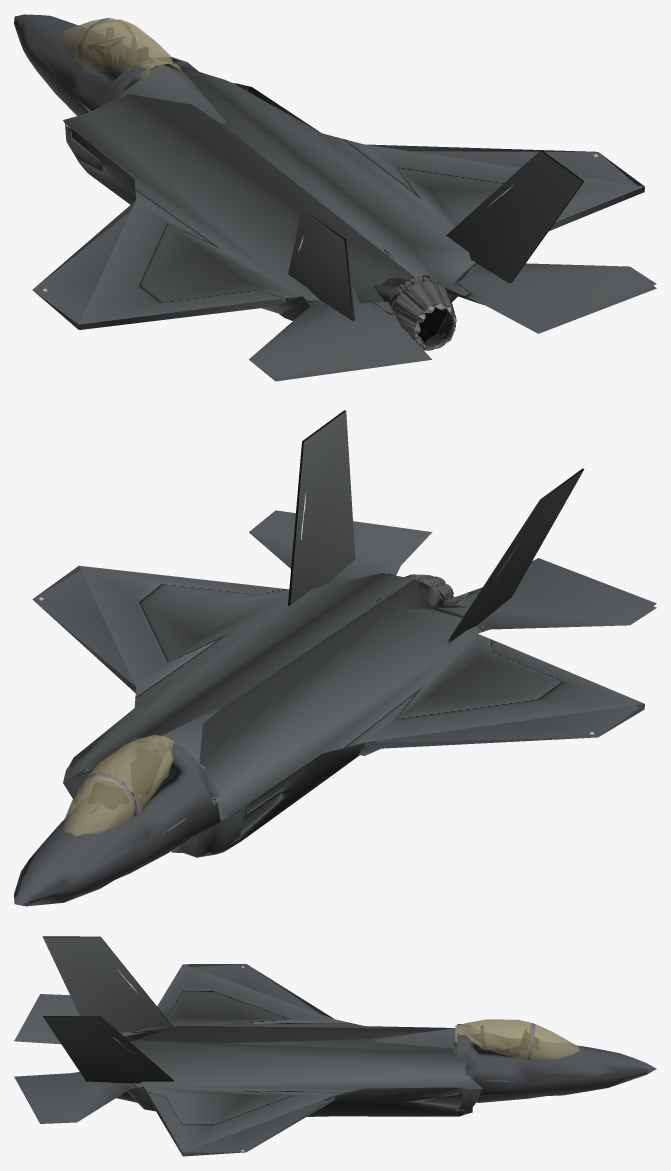
3 views of the same model, one above another, from view 1: azimuth 30°, elevation 25°; view 2: azimuth 150°, elevation 25°; view 3: azimuth 270°, elevation 25° (orthographic). The views are drawn at different scales.
Visible parts, largest first — view 1: body|F35_up_text, body|F35_back, body|Darkness, body|F135_engine, body|Darker_back, body|glass, body|TVC_inside, body|f35_tail, body|base, body|Rubber.001, body|Brownish_engine_color; view 2: body|F35_up_text, body|Darker_back, body|Darkness, body|F135_engine, body|F35_back, body|glass, body|f35_tail, body|base; view 3: body|F35_up_text, body|F135_engine, body|Darkness, body|Darker_back, body|F35_back, body|glass, body|base.
Boxes of the visible parts, x1,y1,x2,y2 form: body|F35_up_text: (65, 64, 644, 324); body|F35_back: (249, 263, 656, 376); body|Darkness: (32, 83, 656, 381); body|F135_engine: (288, 151, 582, 321); body|Darker_back: (14, 14, 202, 115); body|glass: (62, 18, 184, 93); body|TVC_inside: (388, 276, 456, 350); body|f35_tail: (123, 65, 483, 306); body|base: (88, 28, 157, 74); body|Rubber.001: (384, 249, 447, 342); body|Brownish_engine_color: (414, 303, 456, 350); body|F35_up_text: (65, 565, 644, 814); body|Darker_back: (14, 737, 240, 906); body|Darkness: (32, 566, 656, 857); body|F135_engine: (290, 411, 583, 643); body|F35_back: (249, 510, 656, 629); body|glass: (62, 734, 174, 836); body|f35_tail: (63, 568, 446, 857); body|base: (88, 747, 161, 813); body|F35_up_text: (121, 964, 473, 1152); body|F135_engine: (43, 937, 174, 1083); body|Darkness: (17, 964, 482, 1156); body|Darker_back: (457, 1024, 656, 1102); body|F35_back: (14, 994, 129, 1122); body|glass: (455, 1019, 580, 1060); body|base: (469, 1025, 538, 1053).
Size of the model in its own units: 10.87 by 3.65 by 15.67.
24 materials, 2 textured.
